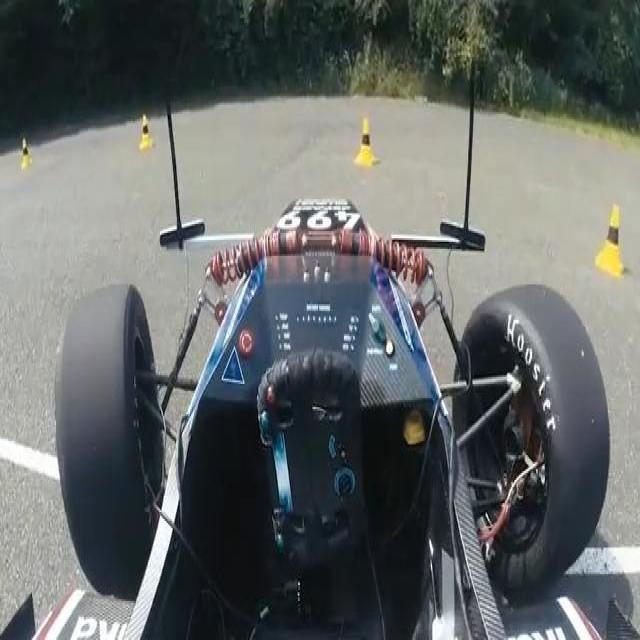yellow_cone: (596, 201, 629, 279), (354, 118, 376, 168), (139, 114, 153, 150), (20, 137, 31, 171)
